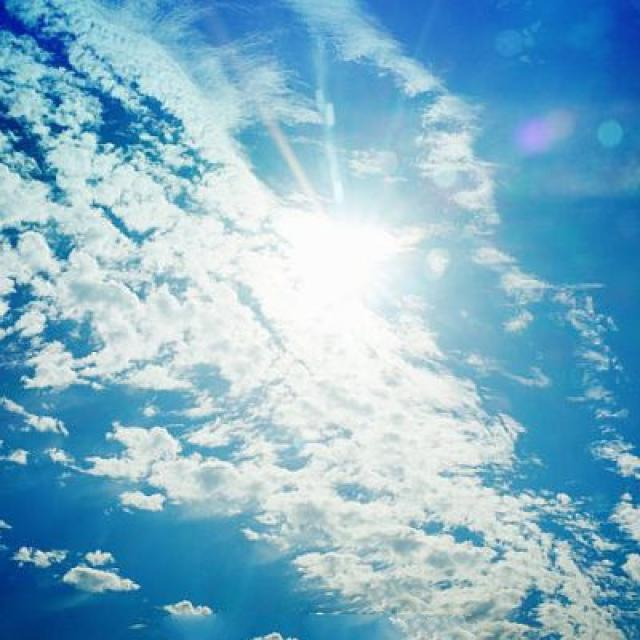Cc: (1, 1, 640, 576)
